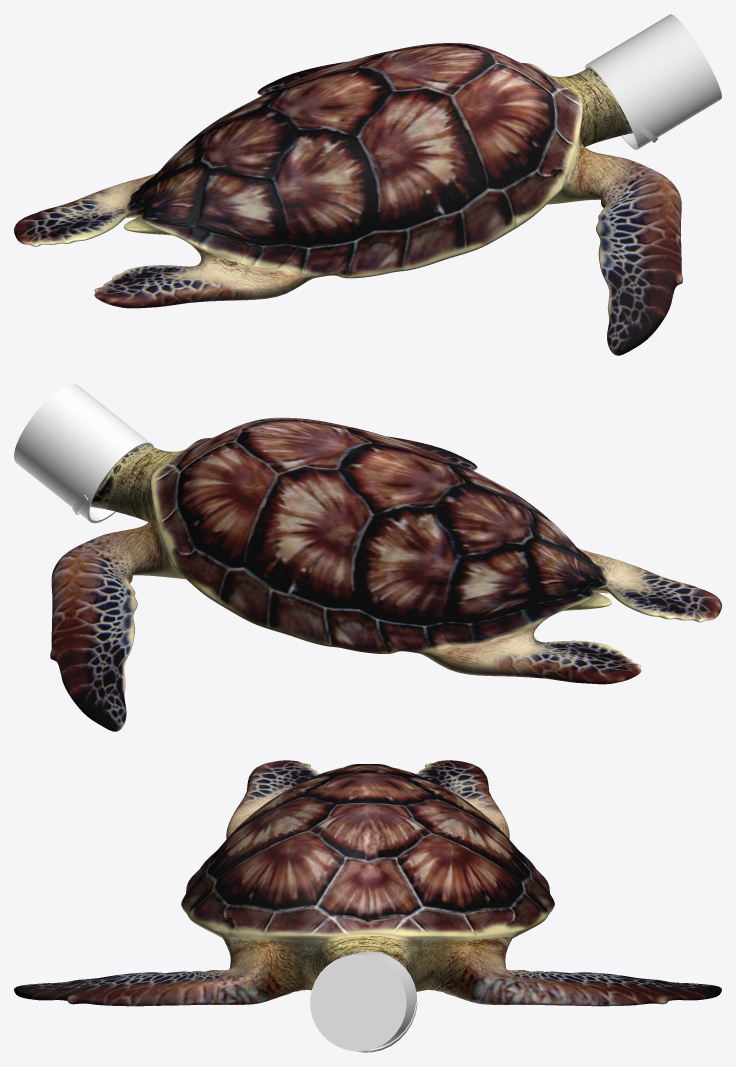
The model's file is sea turtle.fbx.
3 views of the same model, one above another, from view 1: azimuth 30°, elevation 25°; view 2: azimuth 150°, elevation 25°; view 3: azimuth 270°, elevation 25° (orthographic). The views are drawn at different scales.
Visible parts, largest first — view 1: 10042_Sea_Turtle_V2_iterations-2, Cylinder; view 2: 10042_Sea_Turtle_V2_iterations-2, Cylinder; view 3: 10042_Sea_Turtle_V2_iterations-2, Cylinder.
Part boxes in pixels (x1=…): 10042_Sea_Turtle_V2_iterations-2: x1=14, y1=43, x2=682, y2=355; Cylinder: x1=585, y1=14, x2=721, y2=149; 10042_Sea_Turtle_V2_iterations-2: x1=50, y1=417, x2=721, y2=731; Cylinder: x1=14, y1=384, x2=153, y2=523; 10042_Sea_Turtle_V2_iterations-2: x1=14, y1=760, x2=721, y2=1006; Cylinder: x1=310, y1=951, x2=417, y2=1052.
Bounding box in the file's own units: 4.84 × 1.18 × 4.66.
Materials: 2 (1 with a texture image).
